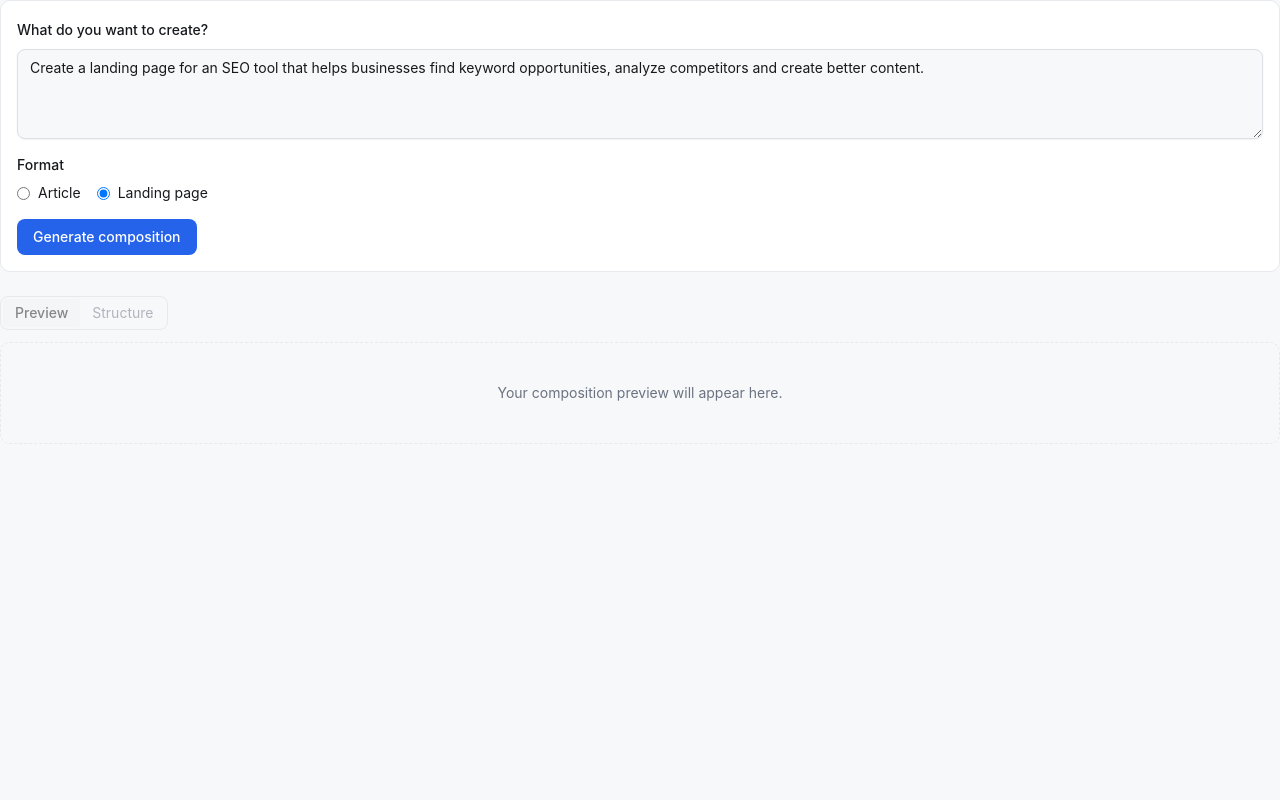
Scenario: Compose -> Content Studio handoff › does not perform a handoff whose captured boundary is stale, and reports the saved draft
Click the button "Generate composition".
click(107, 237)  # box [17,219,196,255]
(page scrolled)
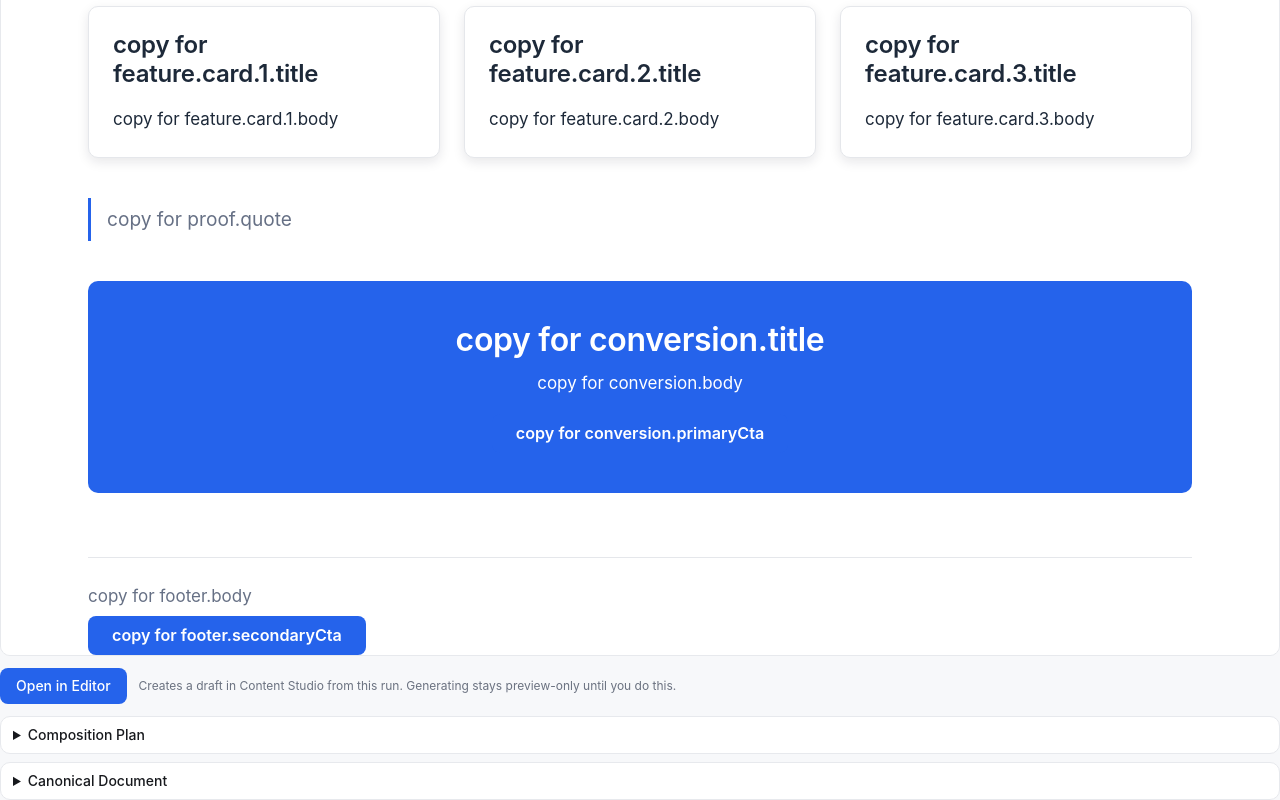
Click the button "Open in Editor".
click(63, 686)  # box [0,668,127,704]
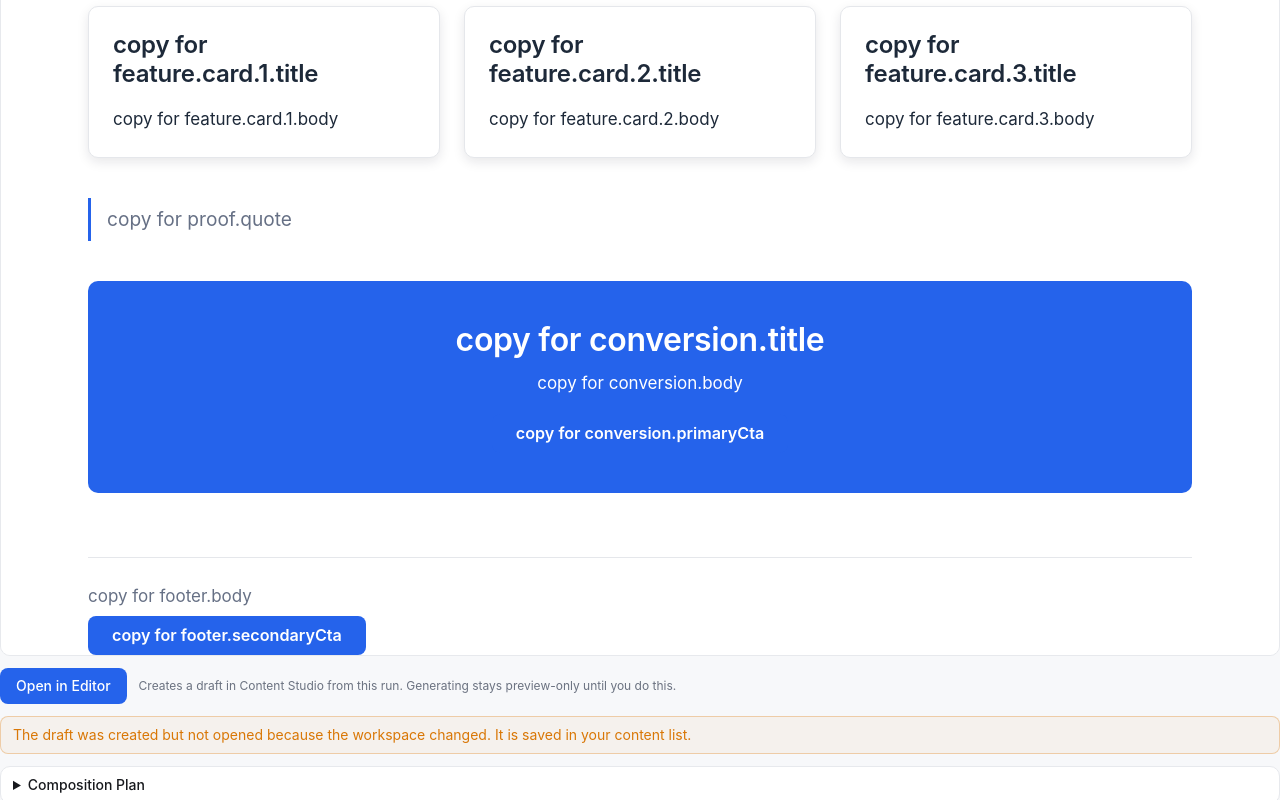
Check: the button "Open in Editor" is enabled, box [0,668,127,704]
Check: the text with test id "compose-handoff-notice" shows "saved in your content list", box [13,726,691,743]
